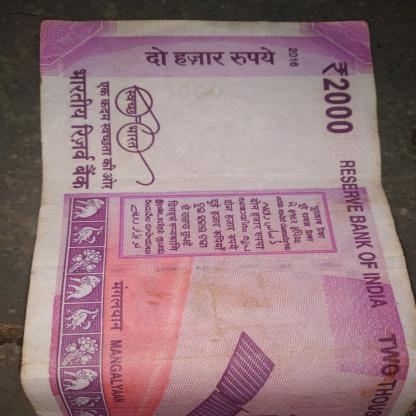New2000Back: (37, 18, 415, 415)
